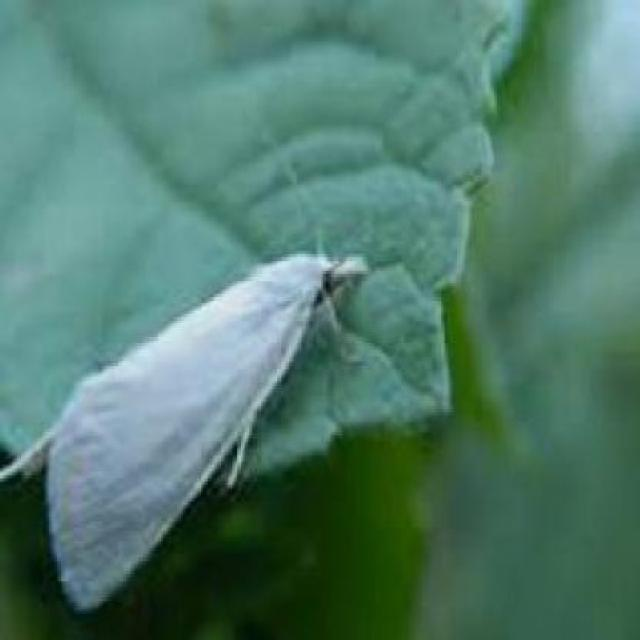stem-borer: (0, 240, 374, 611)
